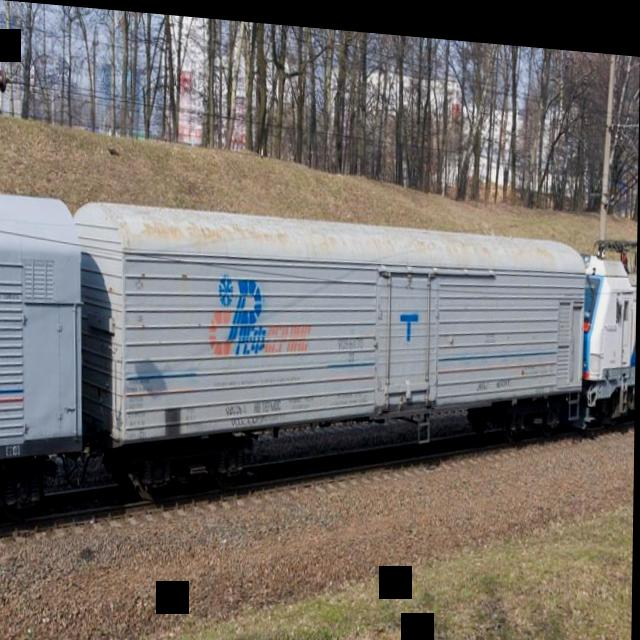boxcar: (76, 189, 590, 538), (0, 175, 87, 556)
locomotive: (581, 229, 638, 424)
